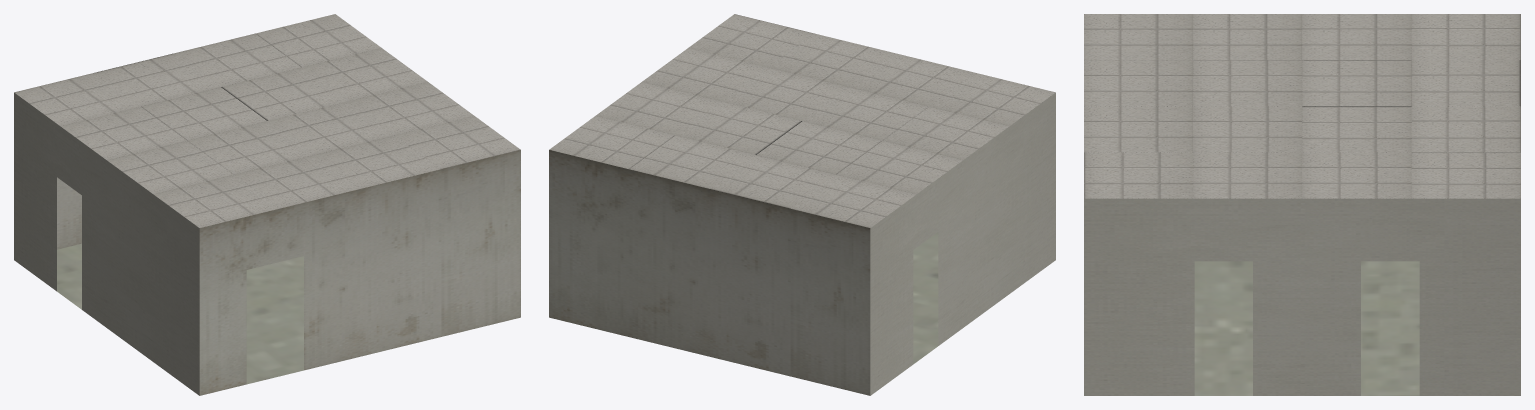
The model's file is ConnectedHospitalRoomShell.glb.
The picture shows the model from 3 angles, left to right: view 1: azimuth 30°, elevation 25°; view 2: azimuth 150°, elevation 25°; view 3: azimuth 270°, elevation 25°; orthographic projection. The views are drawn at different scales.
Visible parts, largest first — view 1: HospitalWalls; view 2: HospitalWalls; view 3: HospitalWalls.
Part boxes in pixels (bbox=[...]): HospitalWalls: bbox=[14, 14, 520, 395]; HospitalWalls: bbox=[549, 14, 1055, 395]; HospitalWalls: bbox=[1084, 14, 1520, 395].
Size of the model in its own units: 24.37 by 12.16 by 24.37.
Materials: 1 (1 with a texture image).
